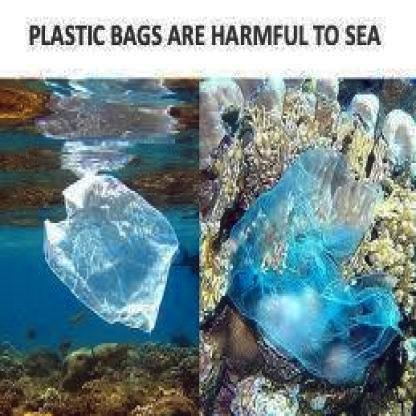pbag: (226, 148, 402, 384), (40, 171, 178, 332)
